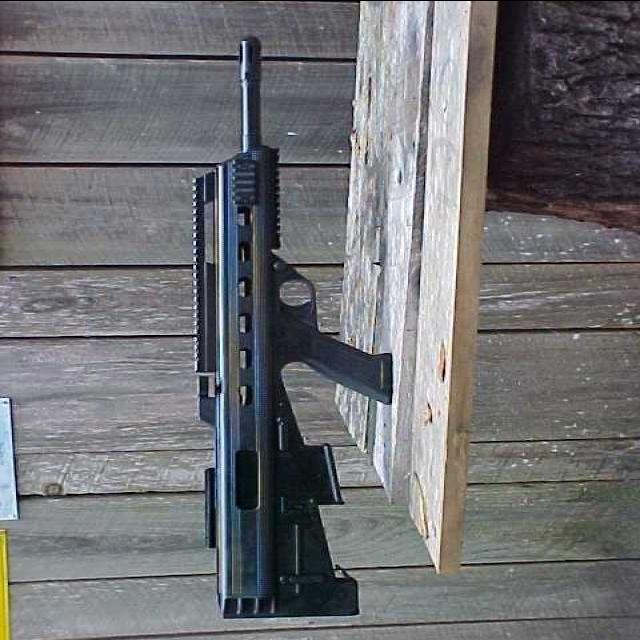heavyweapon: (177, 33, 425, 632)
